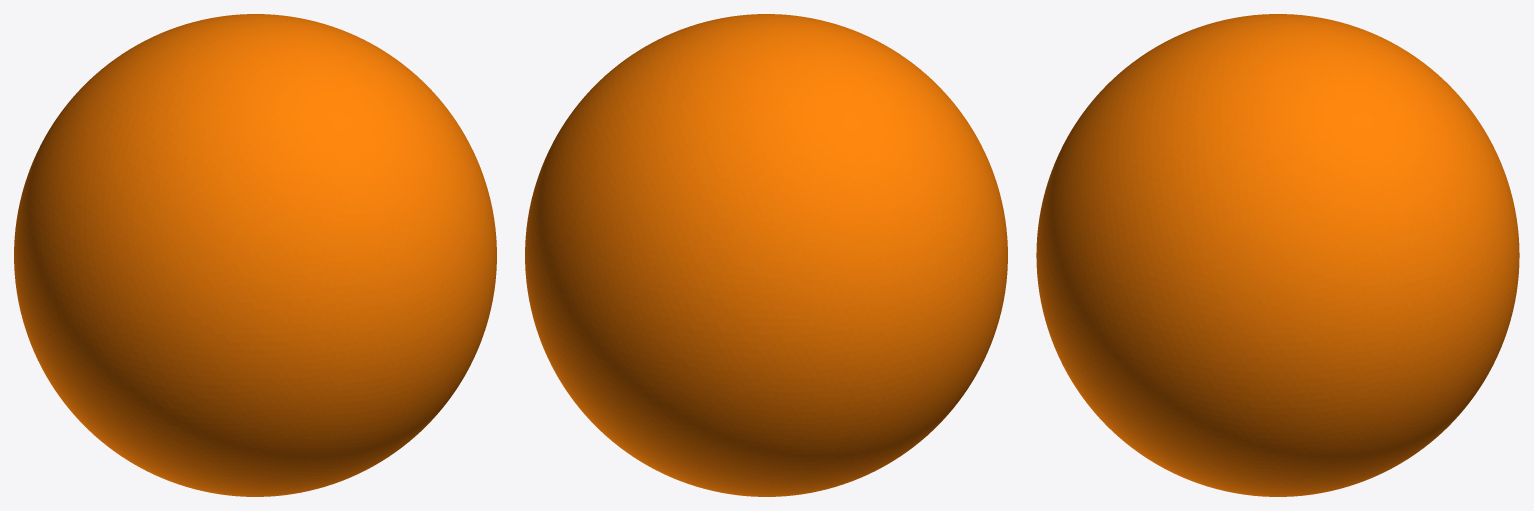
The model's file is BF_Reactor_Core.obj.
3 renders of one model, left to right at view 1: azimuth 30°, elevation 25°; view 2: azimuth 150°, elevation 25°; view 3: azimuth 270°, elevation 25°, orthographic.
Visible parts, largest first — view 1: Icosphere.001_Icosphere.002; view 2: Icosphere.001_Icosphere.002; view 3: Icosphere.001_Icosphere.002.
Part boxes in pixels (bbox=[...]): Icosphere.001_Icosphere.002: bbox=[14, 14, 496, 496]; Icosphere.001_Icosphere.002: bbox=[525, 14, 1007, 496]; Icosphere.001_Icosphere.002: bbox=[1036, 14, 1519, 496].
Size of the model in its own units: 4.92 by 4.92 by 4.92.
1 material, 1 textured.
